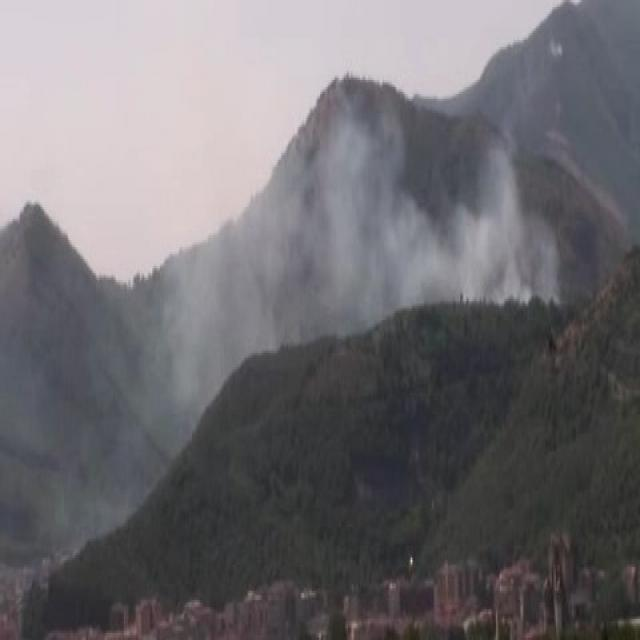smoke: (329, 94, 552, 313)
